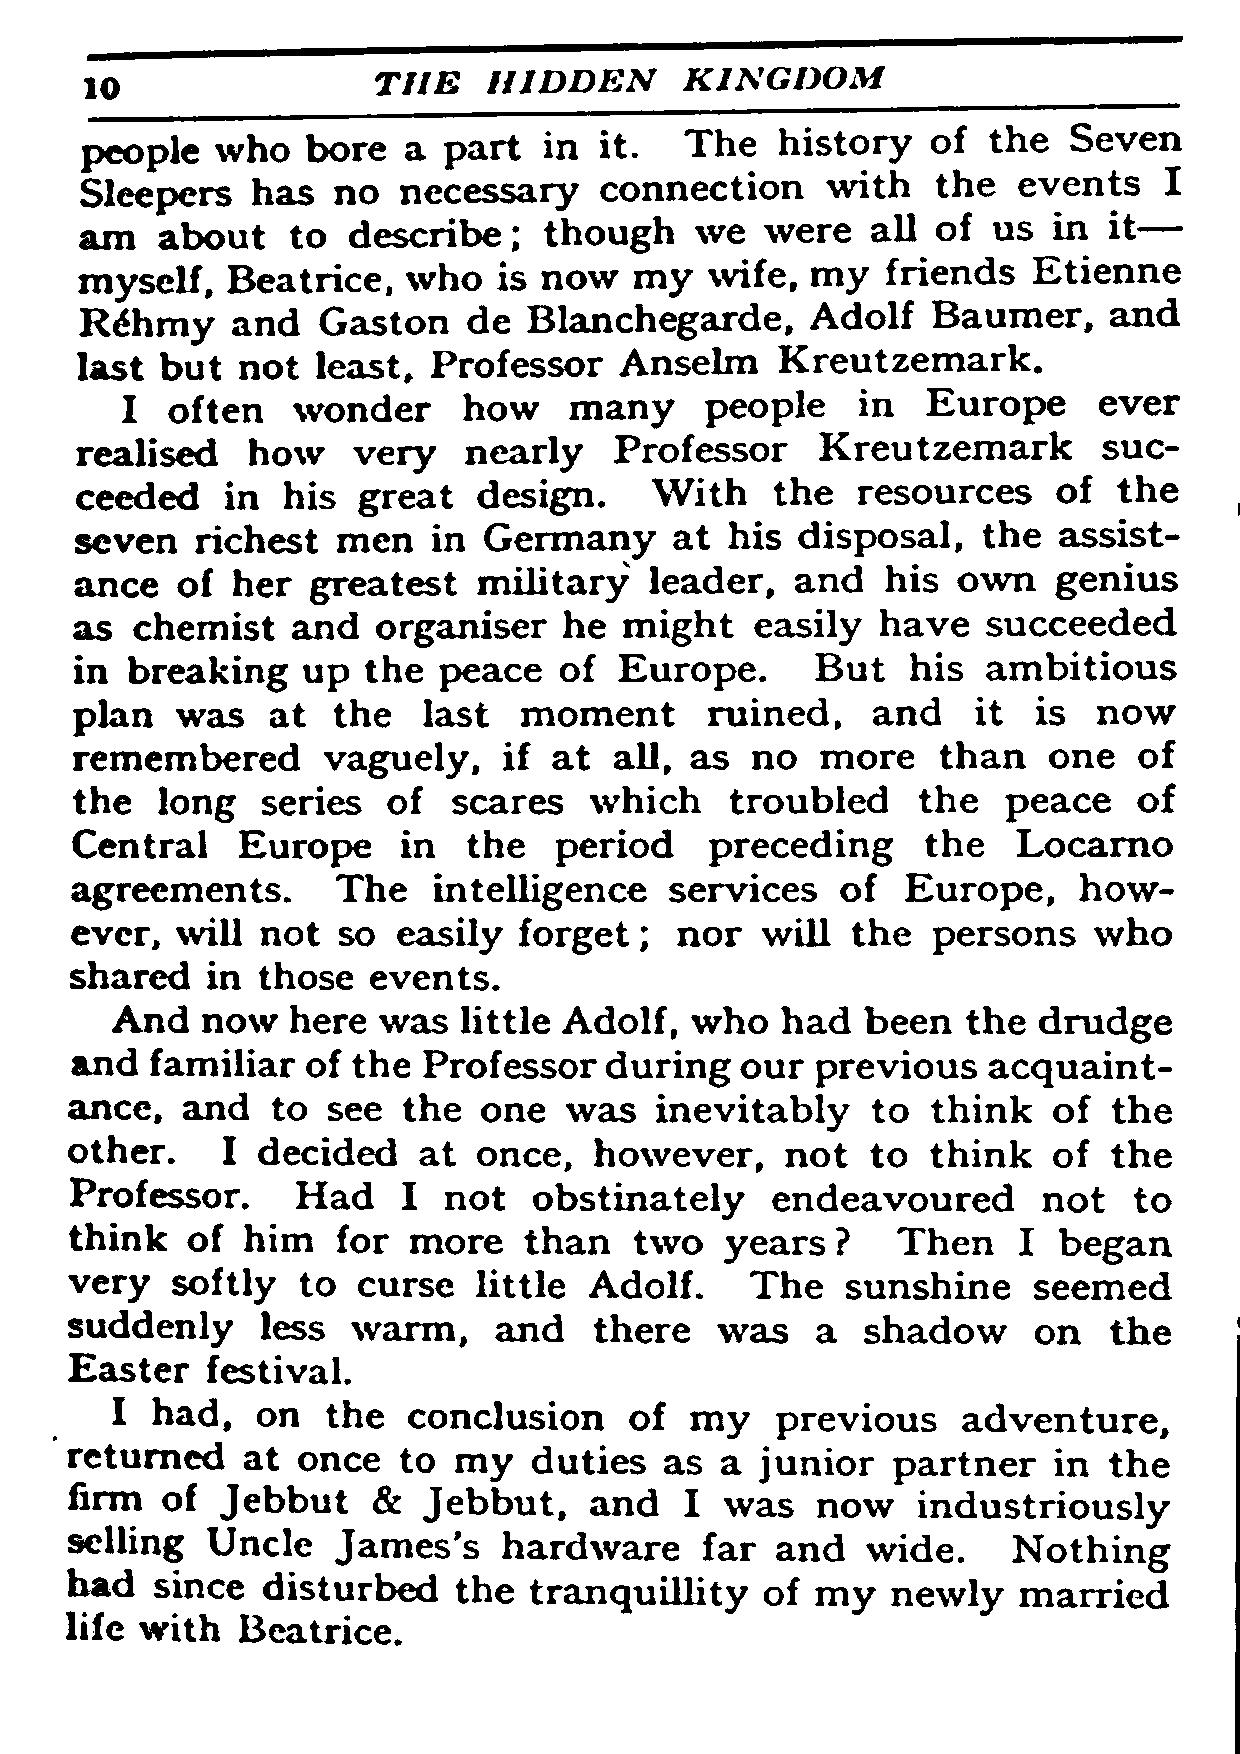content: (60, 126, 1186, 1648)
content_chapter: (369, 63, 880, 97)
content_pagenumber: (74, 64, 126, 107)
